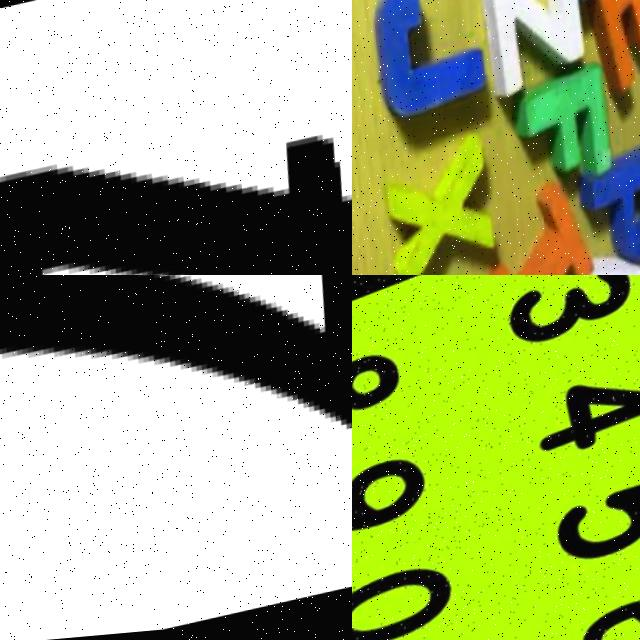0: (352, 534, 503, 640)
3: (489, 275, 640, 366)
4: (508, 348, 640, 483)
5: (534, 449, 640, 593)
6: (561, 559, 640, 640)
7: (0, 275, 352, 544)
8: (352, 318, 448, 459)
9: (352, 426, 487, 562)
E: (578, 0, 640, 116)
F: (513, 72, 626, 203)
I: (476, 188, 616, 275)
J: (365, 0, 498, 134)
P: (577, 149, 640, 275)
T: (0, 64, 352, 275)
X: (374, 123, 516, 275)
Z: (469, 0, 596, 117)
